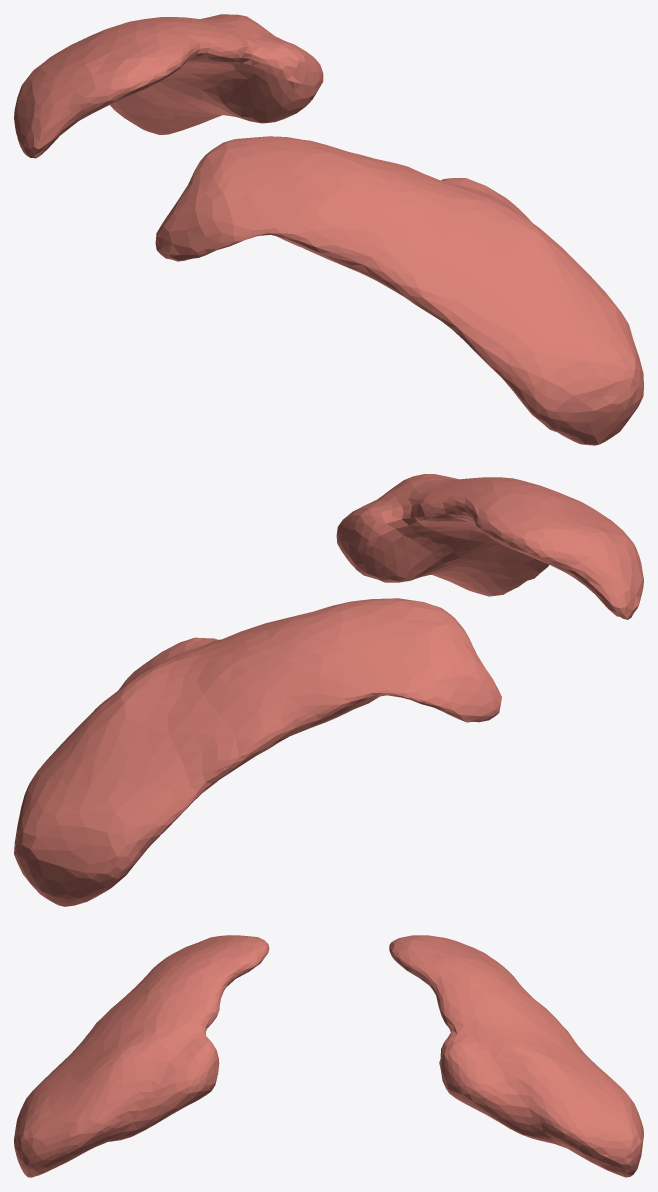
The picture shows the model from 3 angles, top to bottom: view 1: azimuth 30°, elevation 25°; view 2: azimuth 150°, elevation 25°; view 3: azimuth 270°, elevation 25°; orthographic projection. The views are drawn at different scales.
Visible parts, largest first — view 1: 797.obj; view 2: 797.obj; view 3: 797.obj.
Part boxes in pixels (x1,y1,x2,y2): 797.obj: [14, 14, 643, 445]; 797.obj: [14, 474, 643, 906]; 797.obj: [14, 935, 643, 1177].
Bounding box in the file's own units: 2332 × 1472 × 5051.
